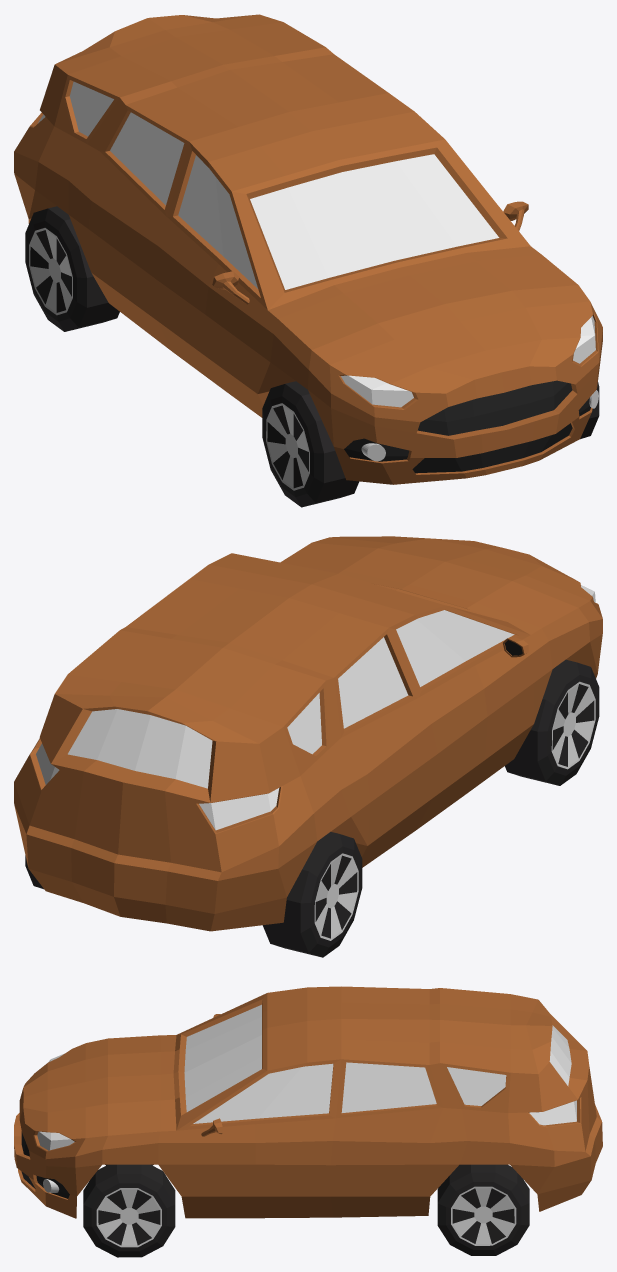
Rendered from 3brown.fbx.
The picture shows the model from 3 angles, top to bottom: view 1: azimuth 30°, elevation 25°; view 2: azimuth 150°, elevation 25°; view 3: azimuth 270°, elevation 25°; orthographic projection. The views are drawn at different scales.
Visible parts, largest first — view 1: Cube; view 2: Cube; view 3: Cube.
Part boxes in pixels (box(x1,y1,x2,y2)): Cube: box(14, 14, 602, 507); Cube: box(14, 536, 602, 957); Cube: box(14, 986, 602, 1257).
Size of the model in its own units: 116 by 88.42 by 250.
